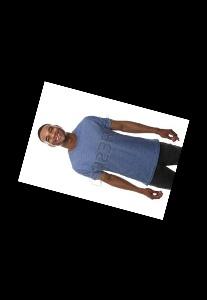arm: (77, 164, 140, 199), (84, 108, 159, 133)
chest: (72, 124, 157, 180)
face: (37, 119, 66, 147)
hand: (158, 125, 180, 142), (140, 187, 164, 200)
leg: (153, 166, 175, 188), (159, 144, 183, 164)
neck: (63, 129, 76, 150)
